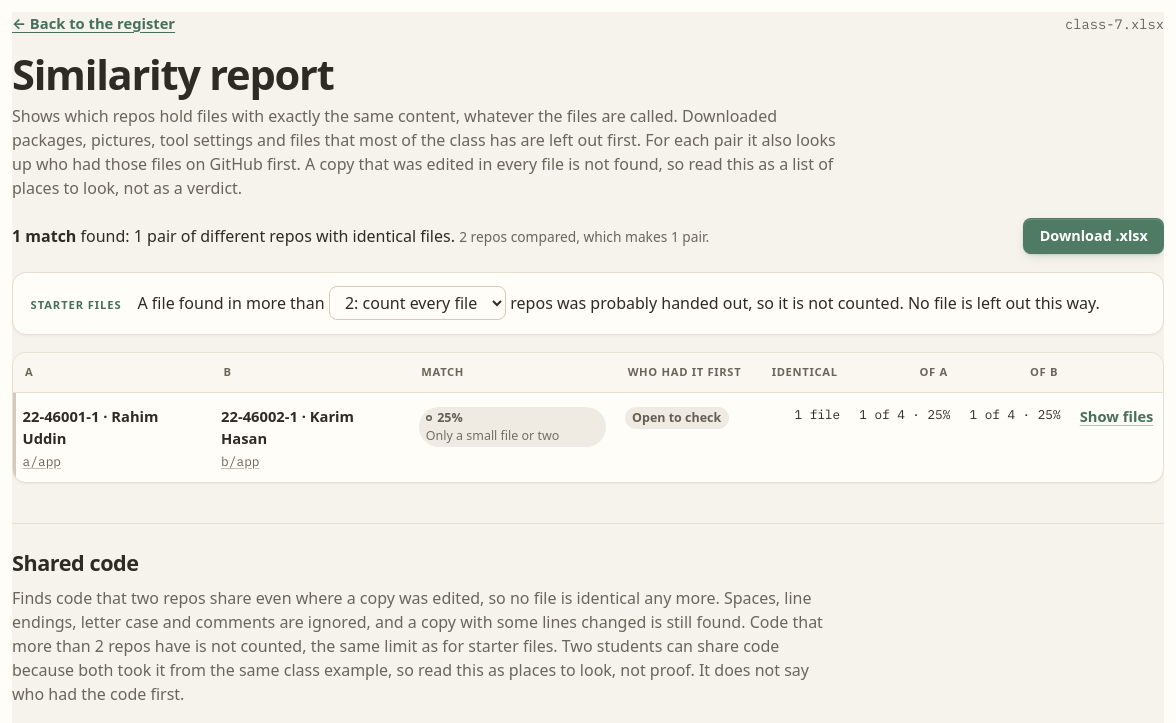
Test: who had it first › checks a weak pair only when its row is opened
This screenshot has width=1176, height=723.
Expected: the cell "Open to check" is shown, [616,393,760,482]
What coordinates should you click on to do the following:
click the button "Show files"
I would click on:
 (1117, 416)
Its box is [1080,405,1153,427].
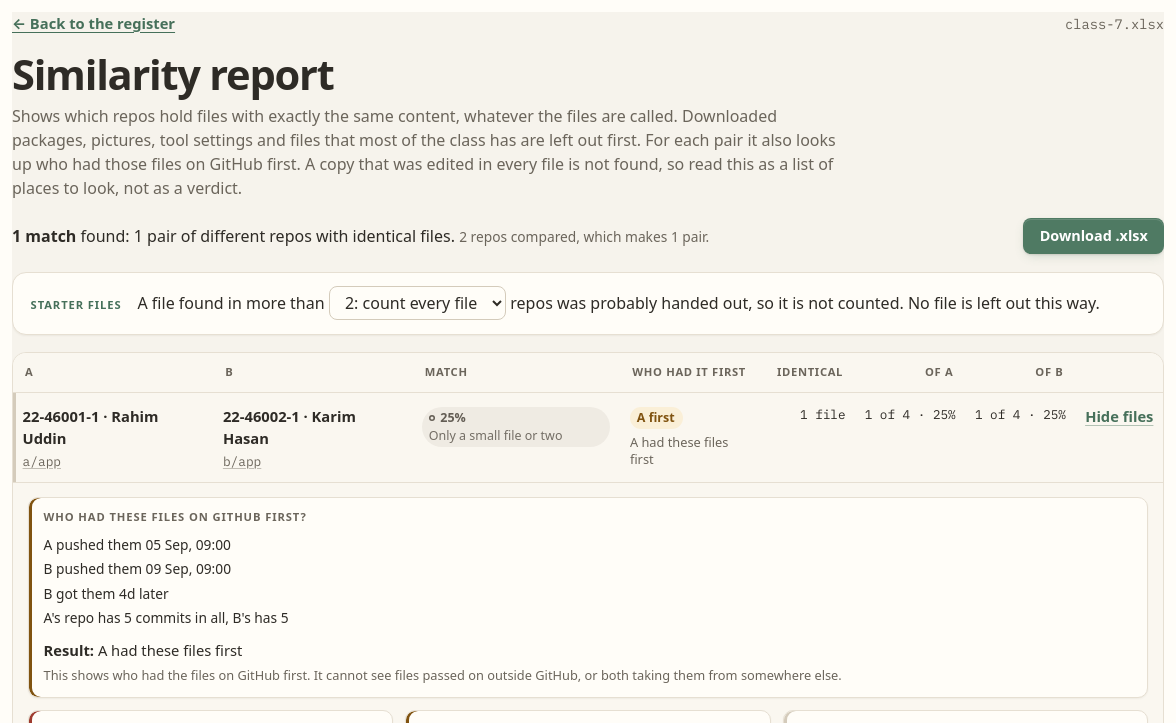
Result: the cell "A first A had these files first" is shown at [620,393,765,483]
Result: the element showing "Result: A had these files first" is shown at [44,640,242,660]
